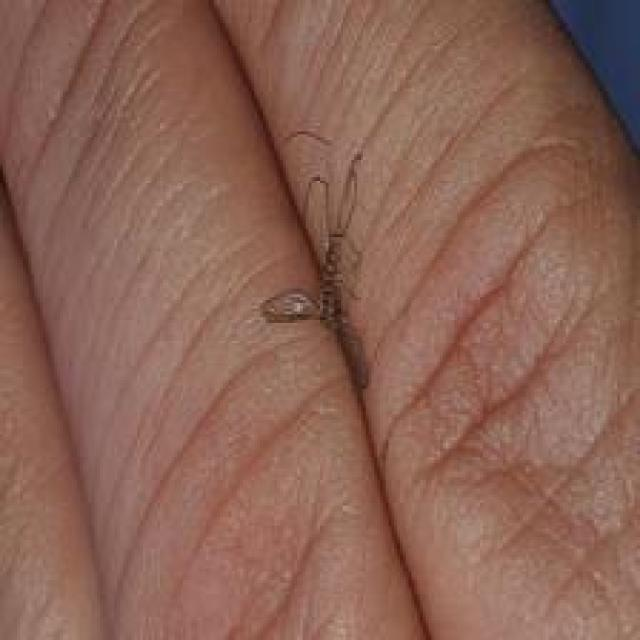Culex: (257, 146, 374, 391)
